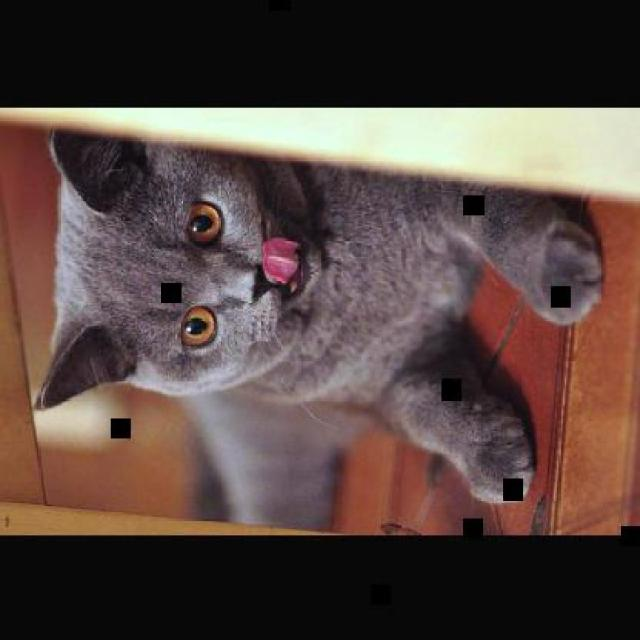unauthorized: (32, 126, 605, 523)
